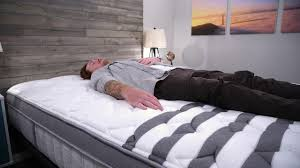bed-matress: (5, 62, 300, 168)
